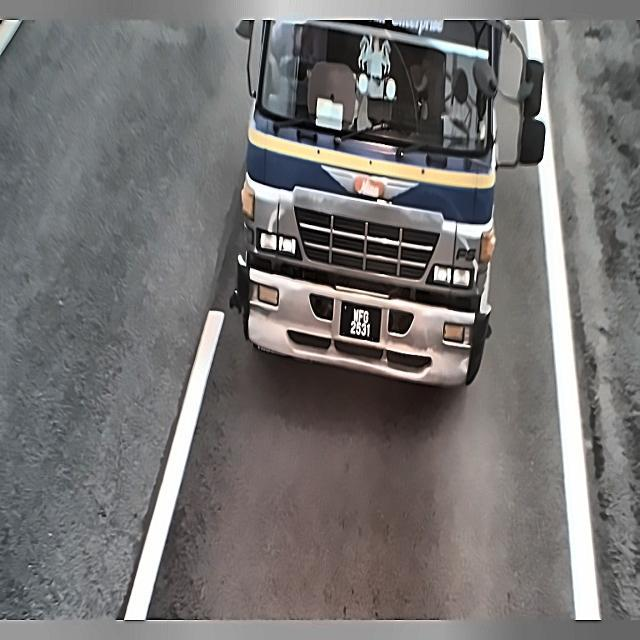car: (332, 294, 390, 350)
